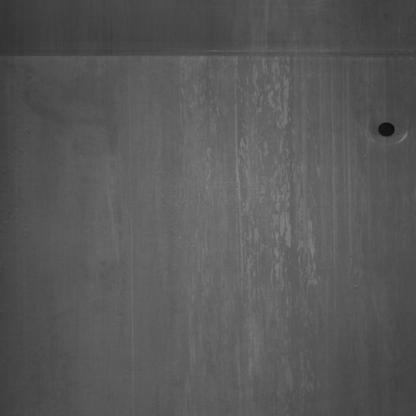punching_hole: (376, 116, 396, 142)
welding_line: (2, 38, 413, 70)
